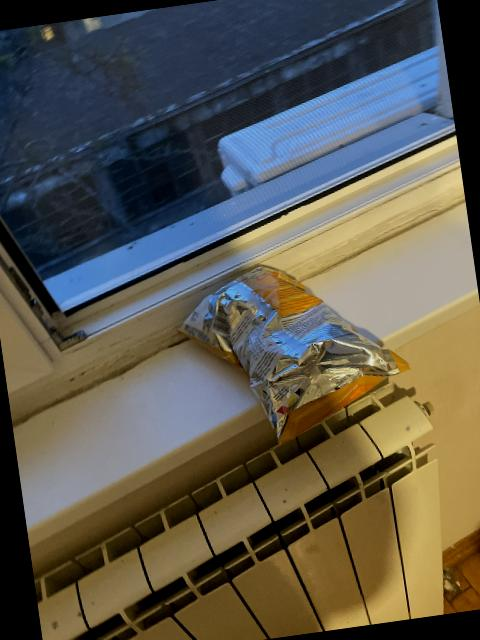Chio Hula Hoops Cheese 70g: (176, 252, 412, 446)
